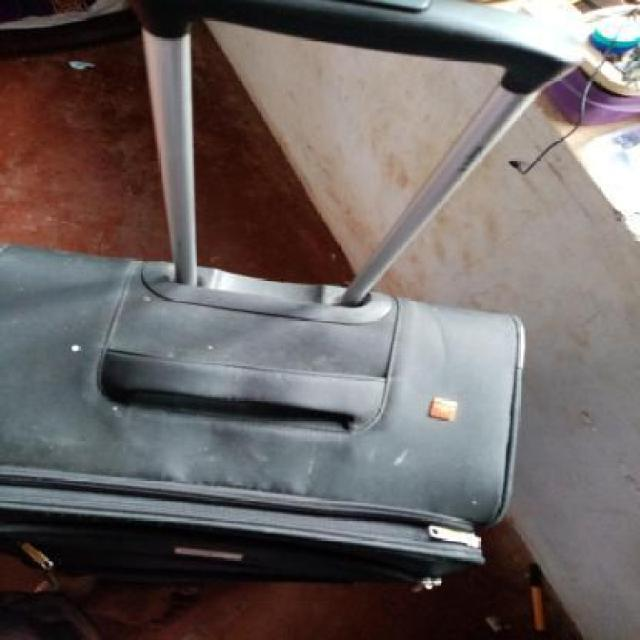backpack: (0, 0, 587, 598)
